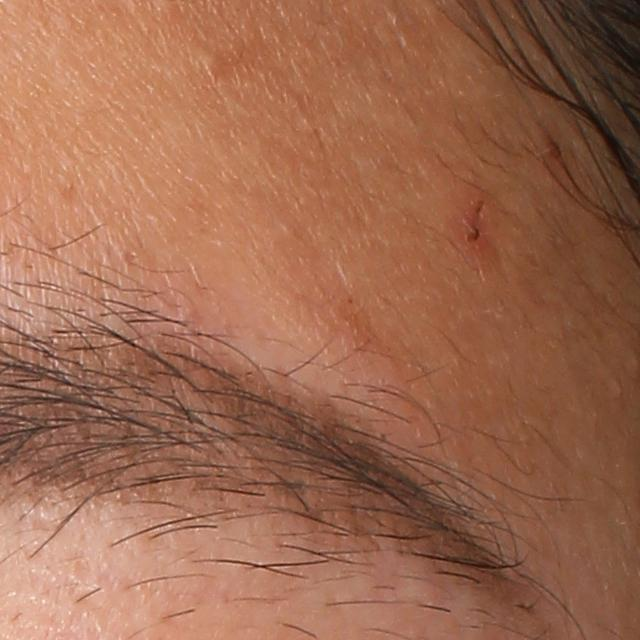comedo: (188, 44, 222, 75)
